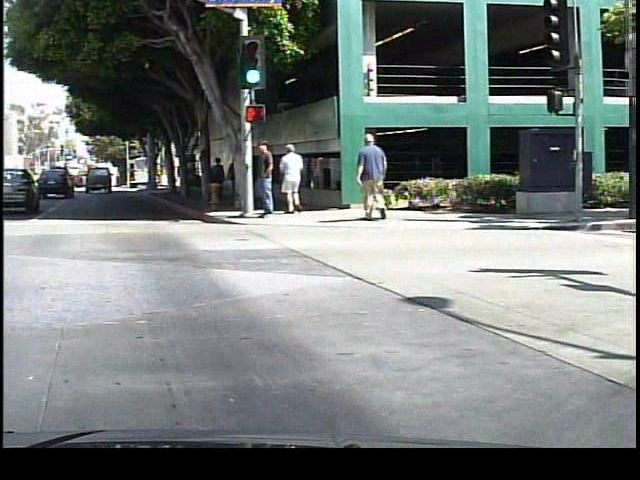person: (351, 130, 392, 220), (251, 136, 280, 226), (275, 141, 305, 215), (211, 155, 227, 202)
